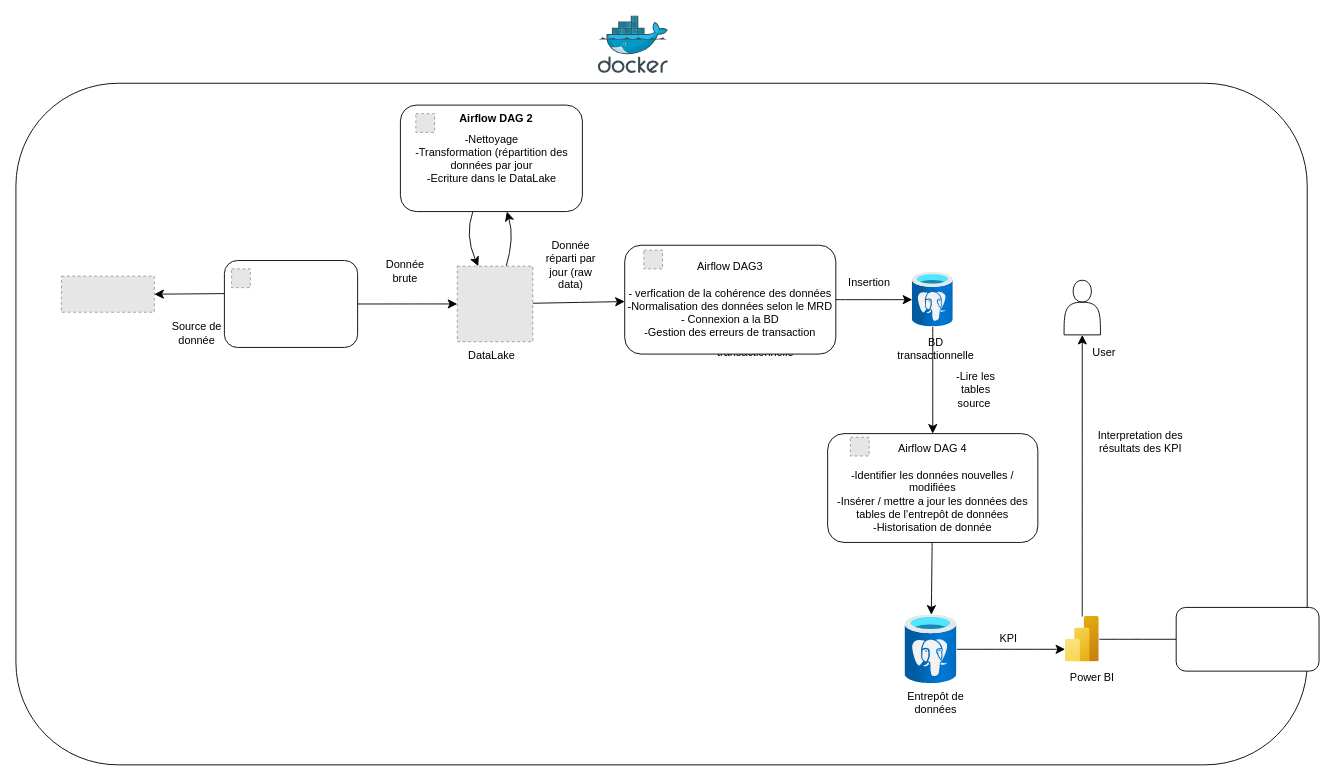
Image size: 1335x781. Some labels were removed from this diagram. Grey dashed boxes stand in for pictures. The box of each missing label's shape, as (x1, y1, x2, y2) in pixels:
-Nettoyage -Calcule KPI -Création de modèle -Création de tableau de bord: (1175, 607, 1319, 671)
Airflow DAG 1 Extraction de la donnée source: (223, 260, 358, 347)
